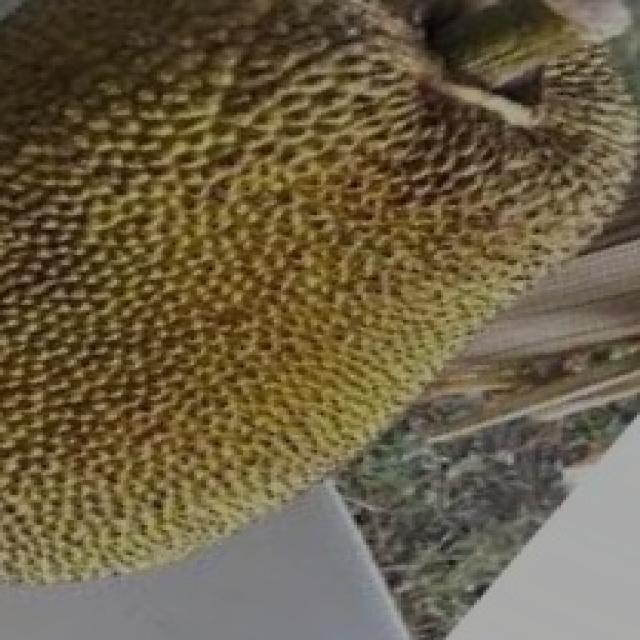Fruit: (0, 238, 403, 622), (0, 0, 406, 362), (264, 0, 640, 337)
